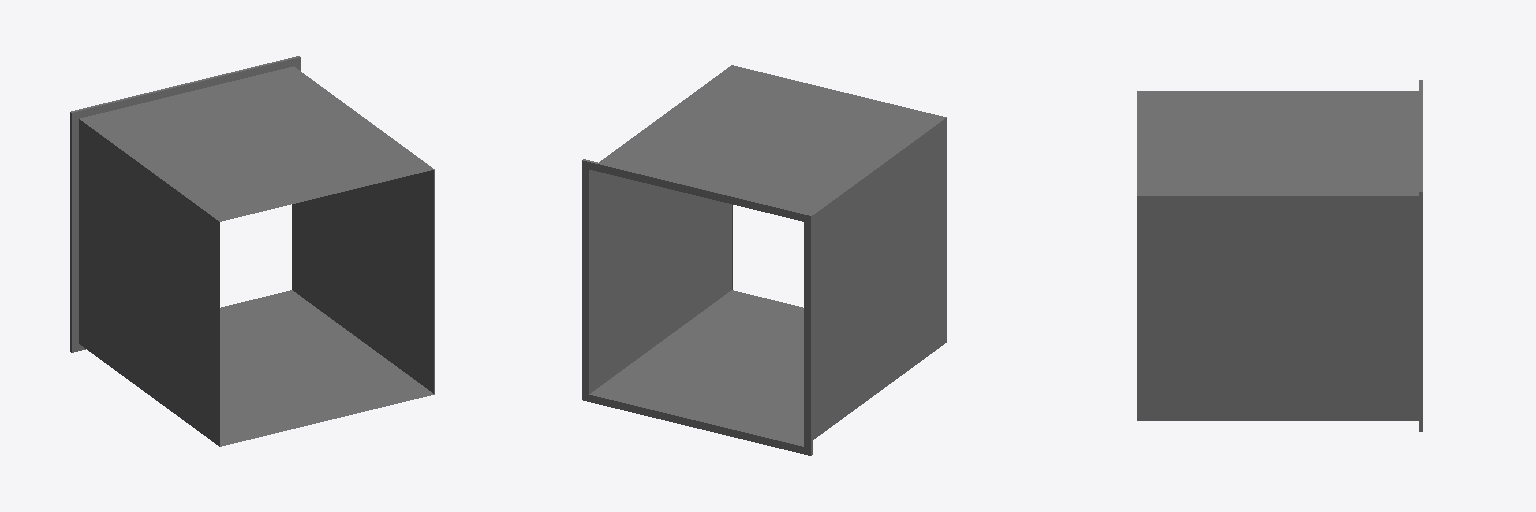
File: ventshaft1.obj
The picture shows the model from 3 angles: view 1: azimuth 30°, elevation 25°; view 2: azimuth 150°, elevation 25°; view 3: azimuth 270°, elevation 25°; orthographic projection.
Parts seen in each view (by area): view 1: ventshaft; view 2: ventshaft; view 3: ventshaft.
Part boxes in pixels (bbox=[...]): ventshaft: bbox=[70, 56, 434, 446]; ventshaft: bbox=[582, 65, 946, 455]; ventshaft: bbox=[1137, 80, 1422, 431].
Size of the model in its own units: 1.13 by 1.13 by 1.22.